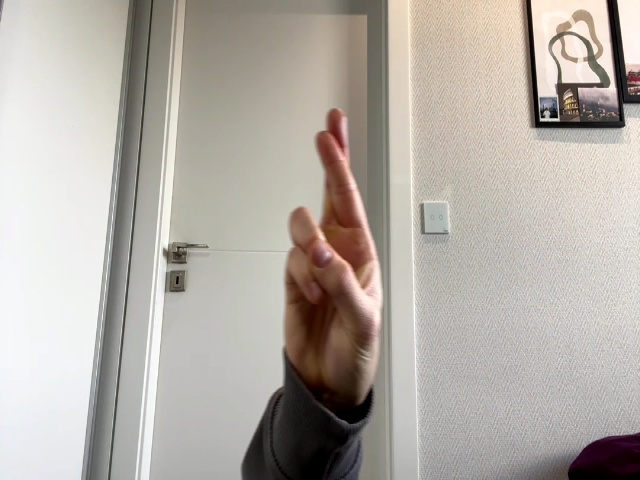R: (286, 108, 383, 397)
